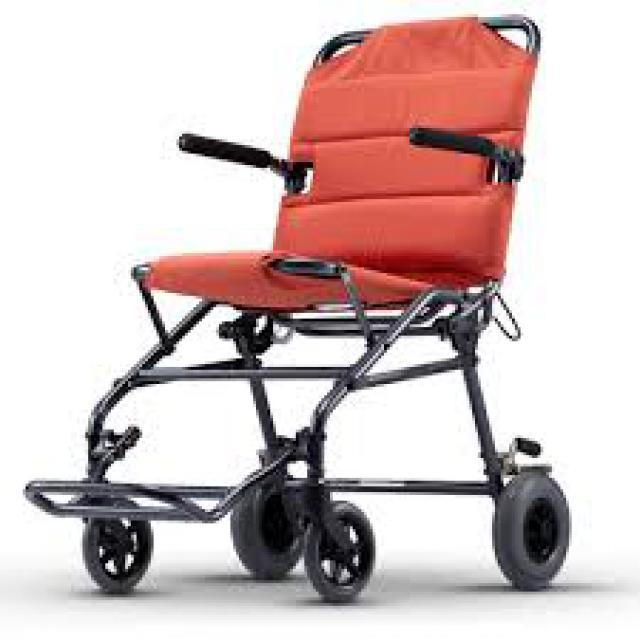wheelchair: (11, 3, 592, 620)
